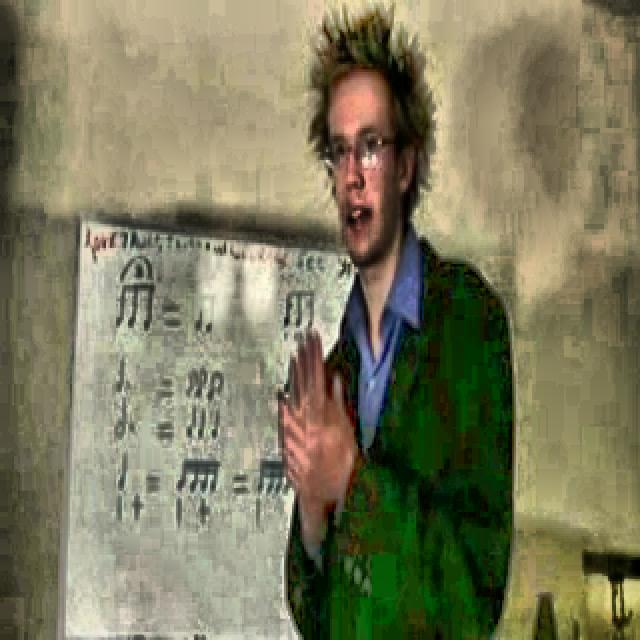F: (275, 6, 521, 636)
